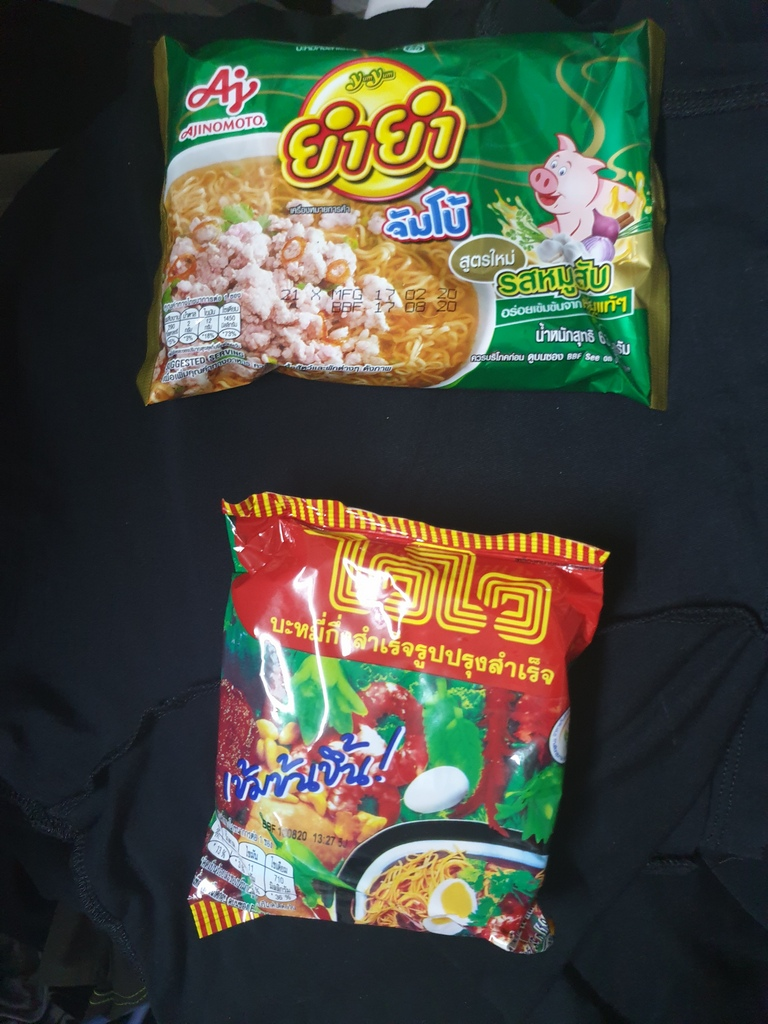waiwai: (216, 489, 592, 960)
yumyum: (145, 28, 675, 407)
